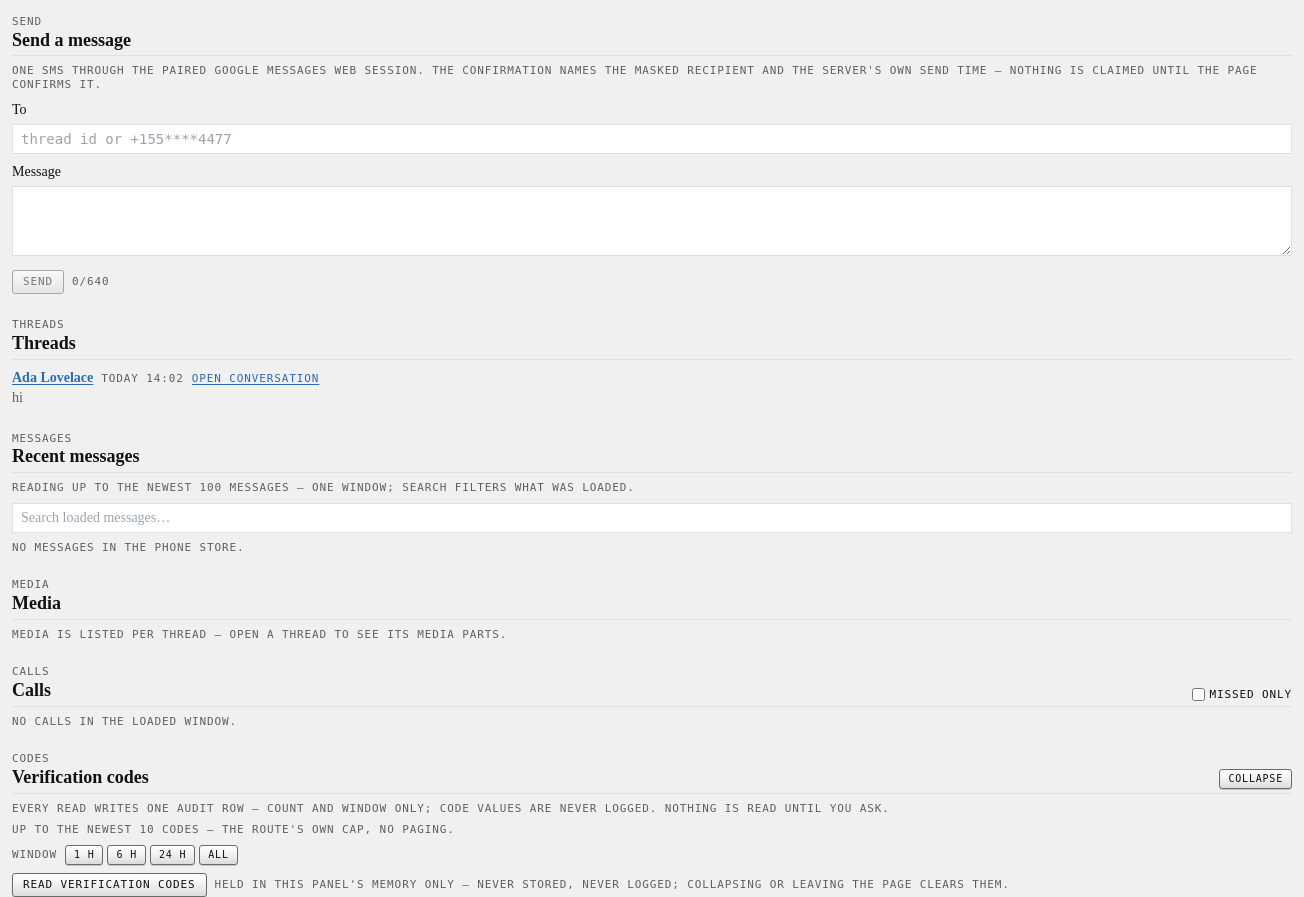
Test: codes panel — masking, reveal, copy › a refused clipboard is named inline, never silent, and leaves the code masked
(page scrolled)
Click the button with test id "phone-codes-read".
click(109, 885)  # box [12,873,207,896]
(page scrolled)
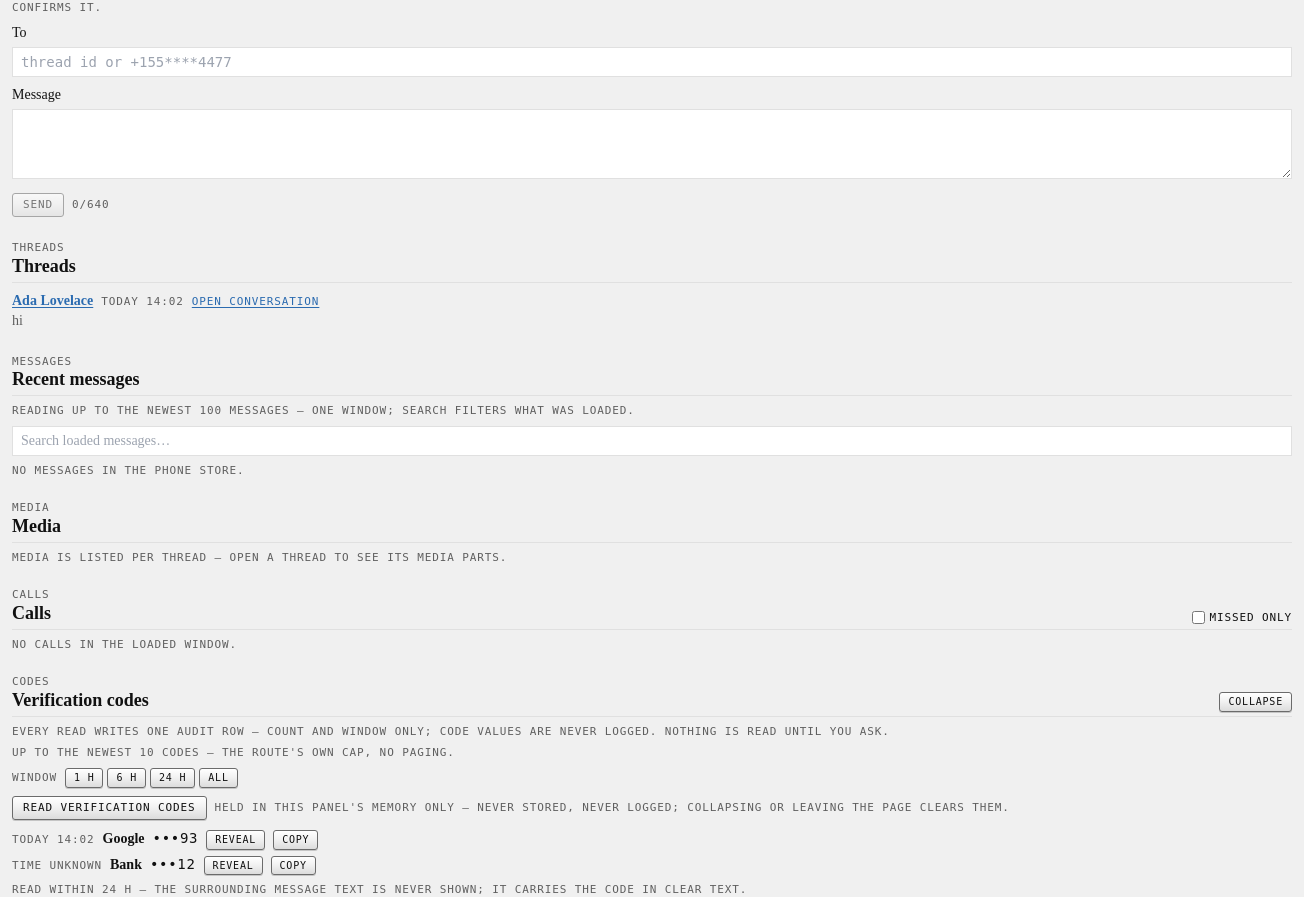
Click the button with test id "phone-code-reveal" next to "•••93".
click(236, 840)  # box [206,830,265,850]
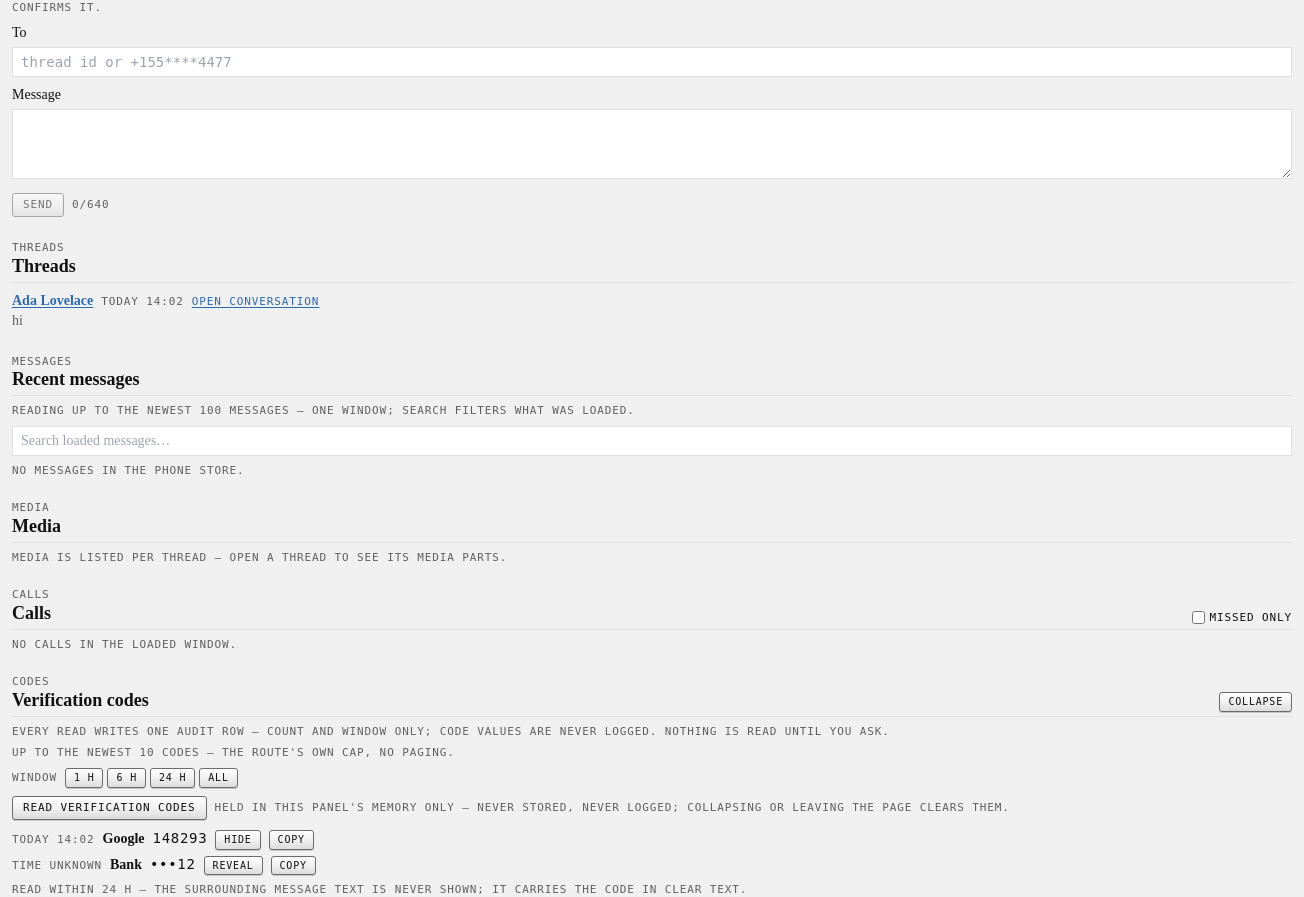
Click the button with test id "phone-code-copy" in the row of "148293".
click(291, 840)  # box [269,830,314,850]
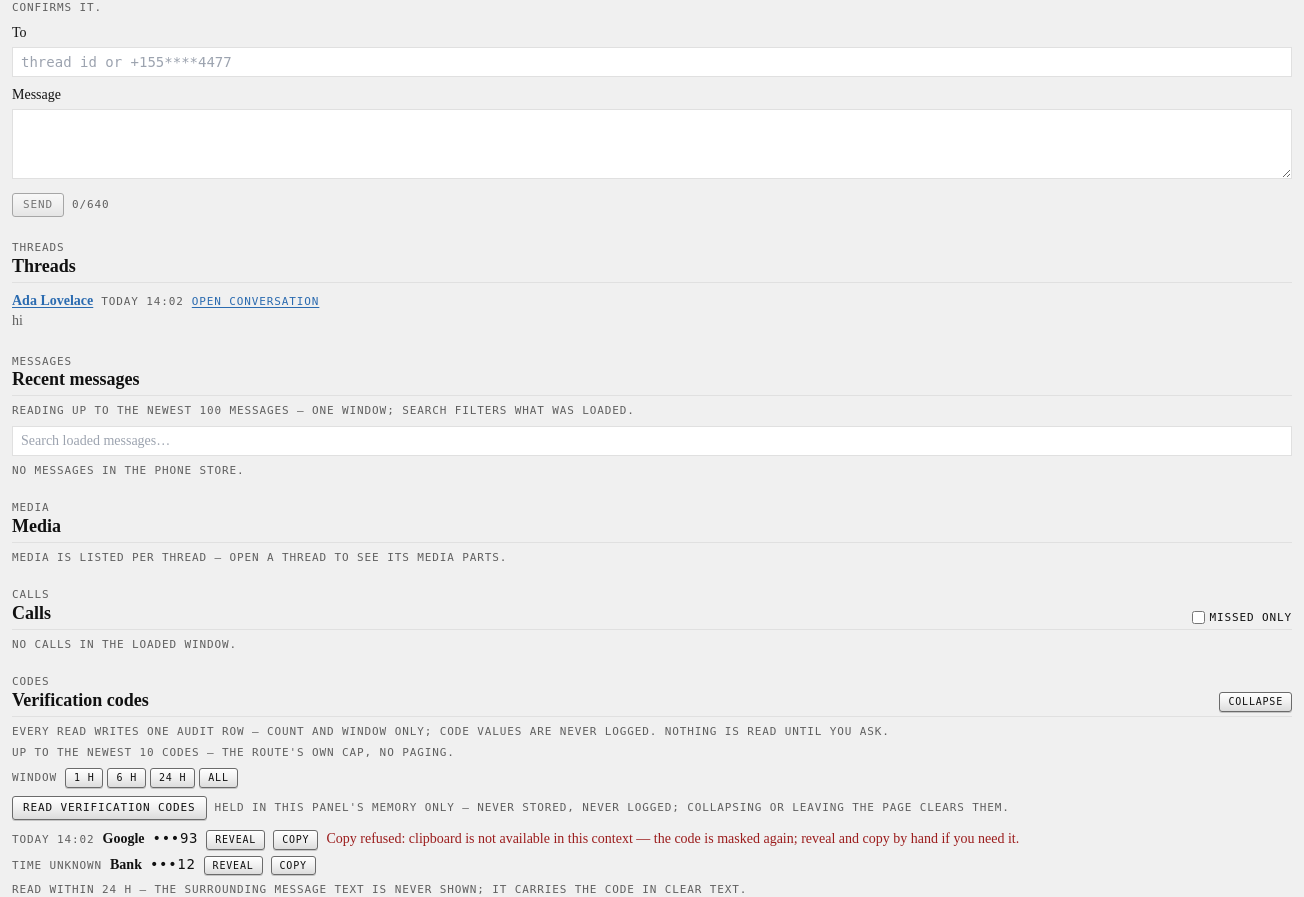
Expected: the message with test id "phone-code-copy-error" shows "clipboard is not available", [326,831,1019,846]
Expected: the text with test id "phone-code-value" reads "•••93", [152,830,198,846]
